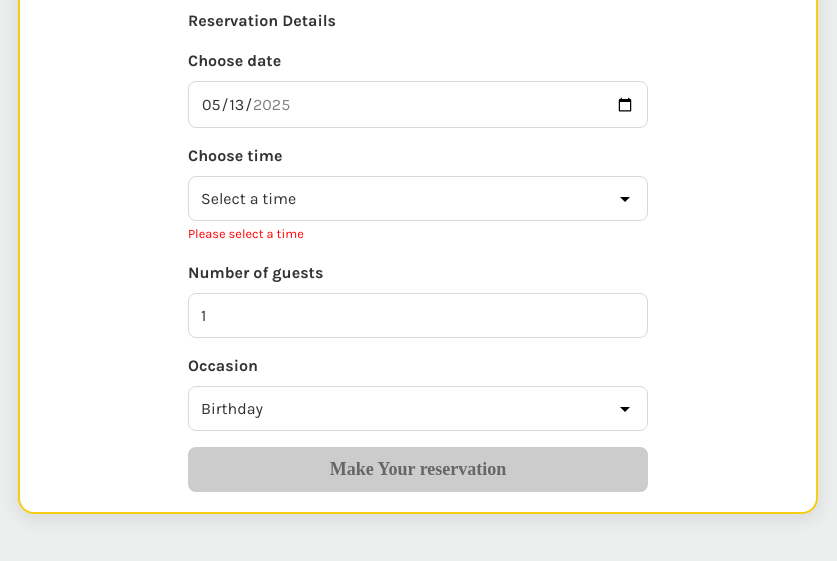
Test: BookingForm › Form Validation › should show error when date is not selected
The image size is (837, 561).
Clear the date field labelled "Choose date" at x=418, y=104, box [188,81,648,128]
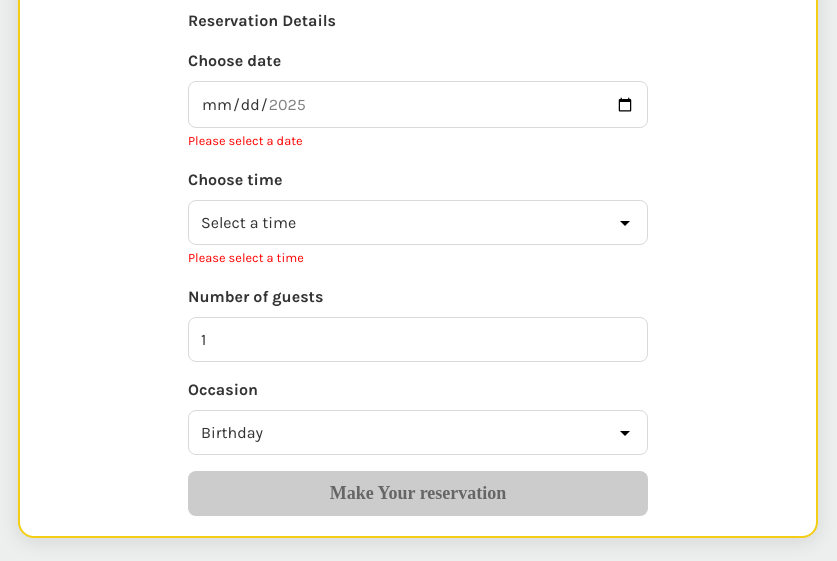
Now the text "Please select a date" is shown, box [188,133,303,148]
